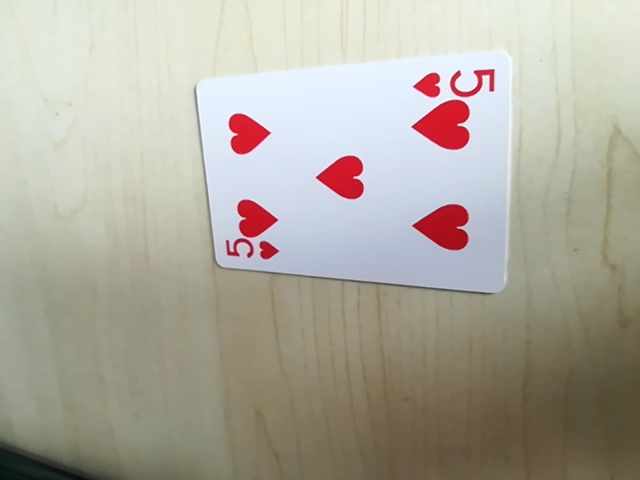hx 5: (410, 58, 500, 102), (219, 234, 282, 266)
